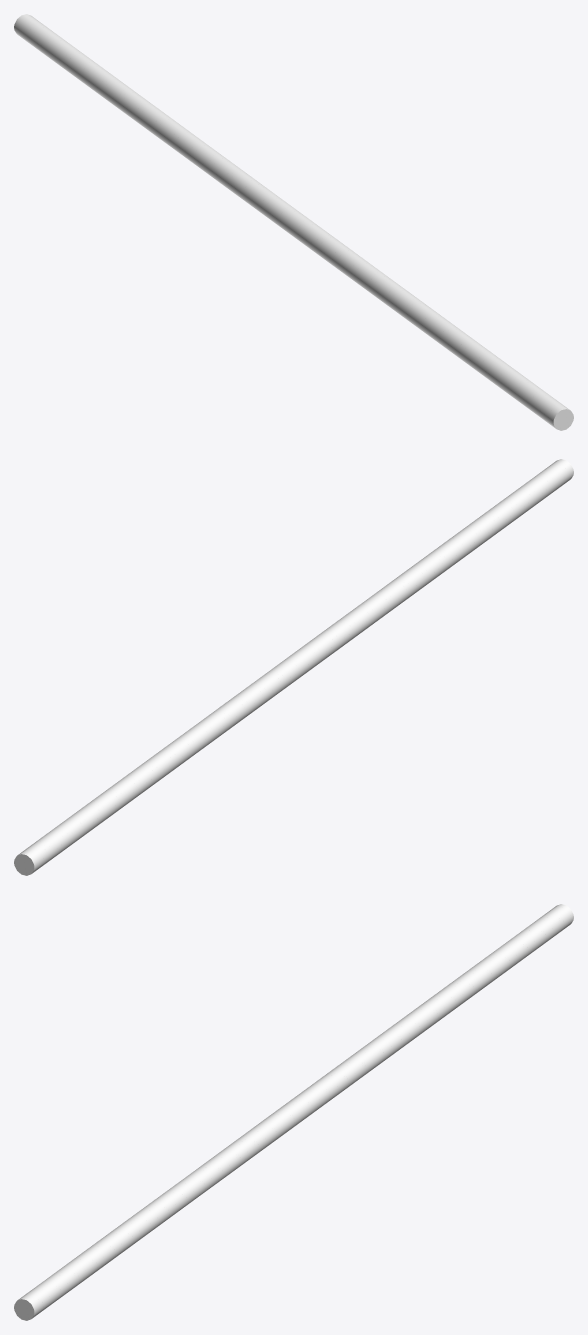
The model's file is pipe.glb.
3 renders of one model, top to bottom at view 1: azimuth 30°, elevation 25°; view 2: azimuth 150°, elevation 25°; view 3: azimuth 330°, elevation 25°, orthographic.
Visible parts, largest first — view 1: Steel, Galvanized; view 2: Steel, Galvanized; view 3: Steel, Galvanized.
Boxes of the visible parts, x1,y1,x2,y2 form: Steel, Galvanized: [14, 14, 573, 430]; Steel, Galvanized: [14, 459, 573, 875]; Steel, Galvanized: [14, 904, 573, 1320].
Size of the model in its own units: 0.05 by 0.05 by 2.29.
1 material, 1 textured.
